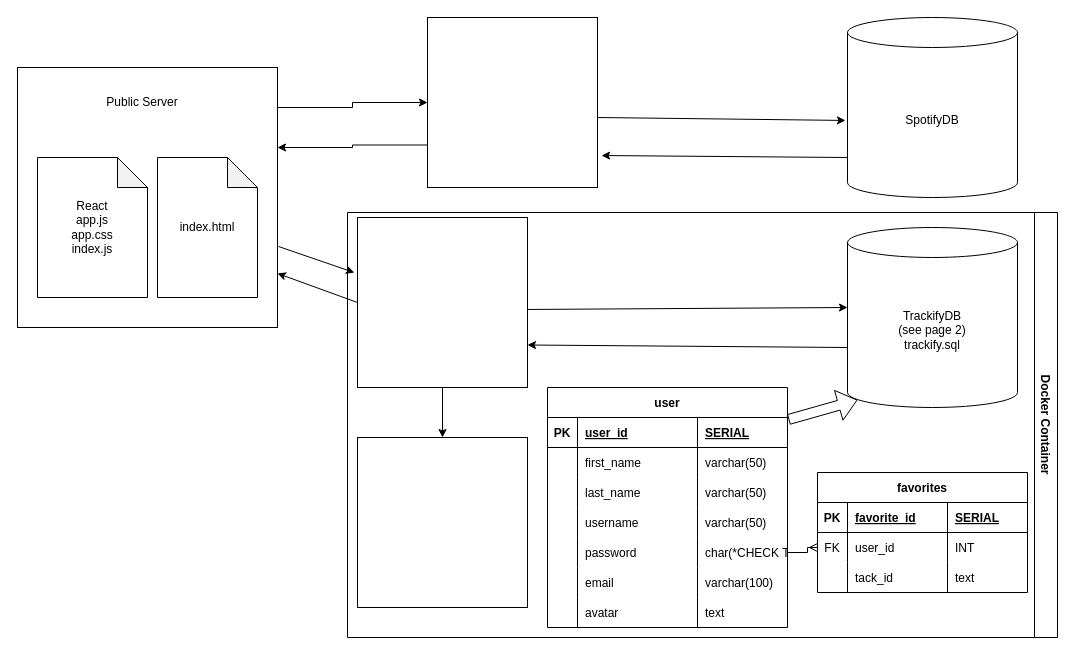
The diagram is 1075 pixels wide and 655 high, and some of its shapes have lost their labels. Here are the shapes that lost their labels. From the top down, the centre of each, then its label:
At point 512,102: "External: Spotify API".
At point 442,302: "Trackify API expressServer.js".
At point 442,522: "Authorization Service".
